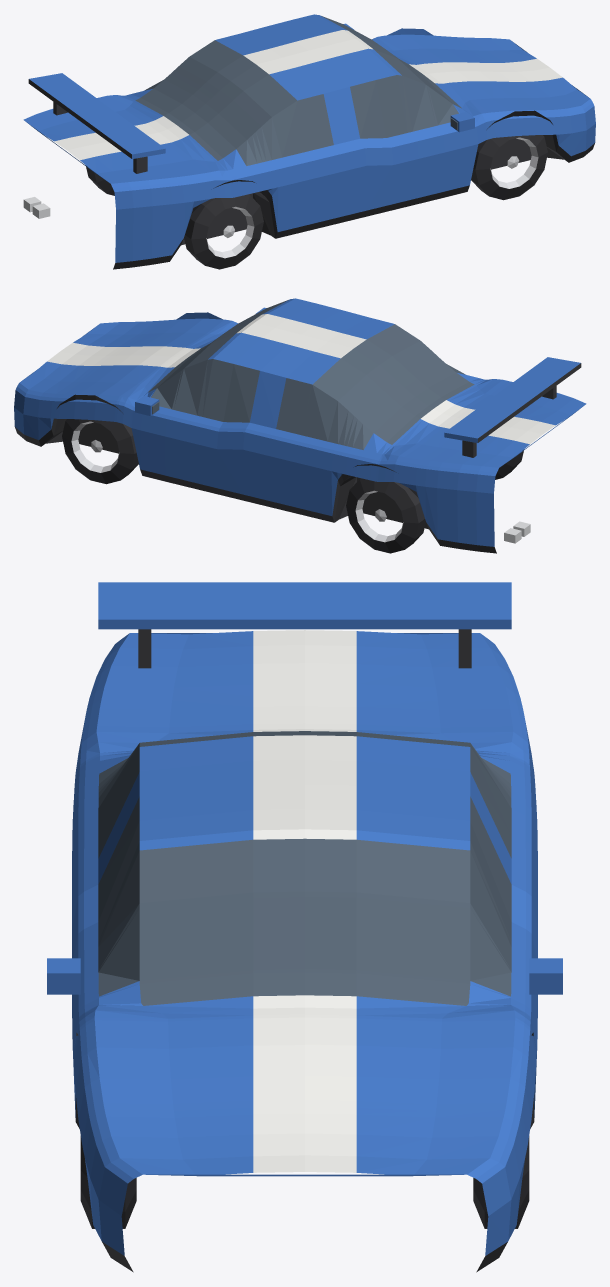
File: strata-gt.glb
3 renders of one model, top to bottom at view 1: azimuth 30°, elevation 25°; view 2: azimuth 150°, elevation 25°; view 3: azimuth 270°, elevation 25°, orthographic. The views are drawn at different scales.
Parts seen in each view (by area): view 1: body, wheel rear left, wheel front left; view 2: body, wheel rear right, wheel front right; view 3: body, wheel front left, wheel front right.
Part boxes in pixels (<box>): body: <box>23,14,595,269</box>; wheel rear left: <box>184,194,263,269</box>; wheel front left: <box>471,135,547,200</box>; body: <box>14,298,586,553</box>; wheel rear right: <box>346,478,425,553</box>; wheel front right: <box>62,419,138,484</box>; body: <box>47,582,562,1272</box>; wheel front left: <box>80,1136,136,1228</box>; wheel front right: <box>473,1136,529,1228</box>.
Size of the model in its own units: 4.4 by 1.24 by 2.
